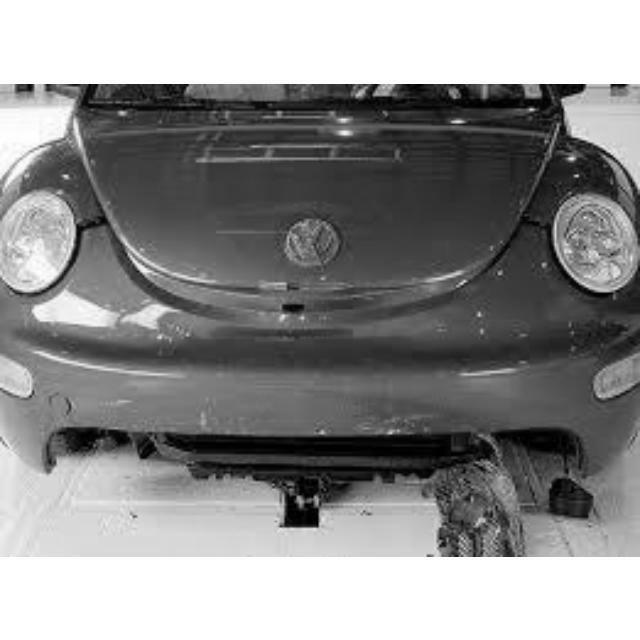front-bumper-dent: (130, 434, 537, 507)
